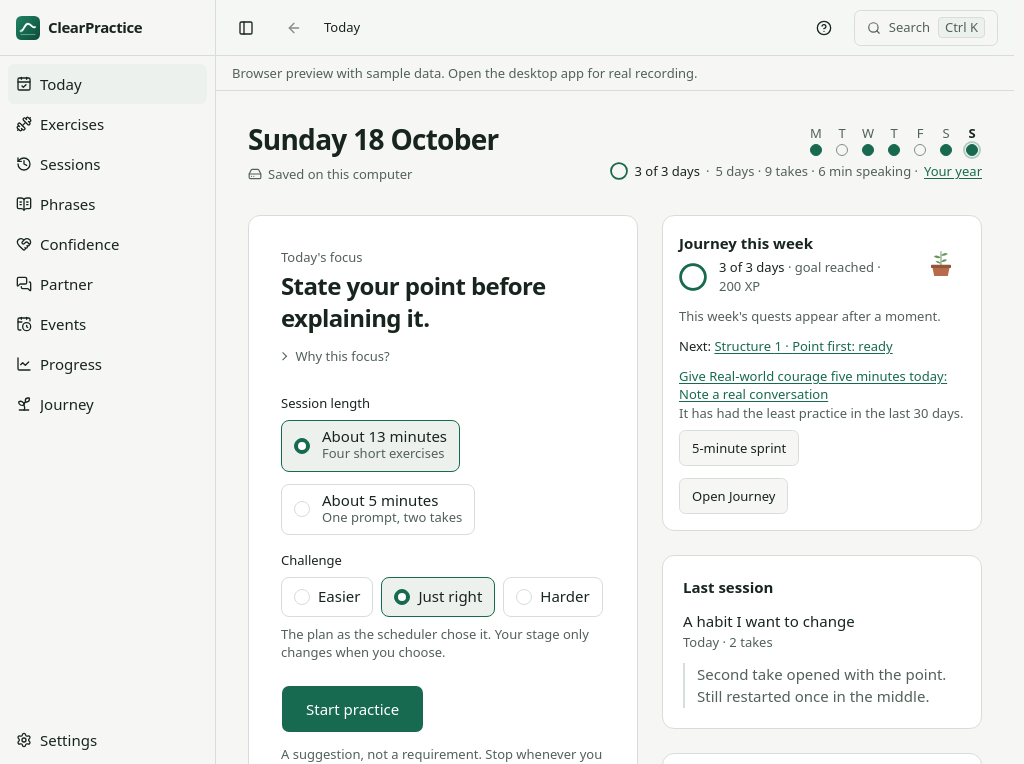
app shell › opens the command palette with Ctrl+K and finds a phrase
The width and height of the screenshot is (1024, 764).
Expected: the button "Start practice" is shown, [281,685,424,733]
Type keys "{Control>}k{/Control}"
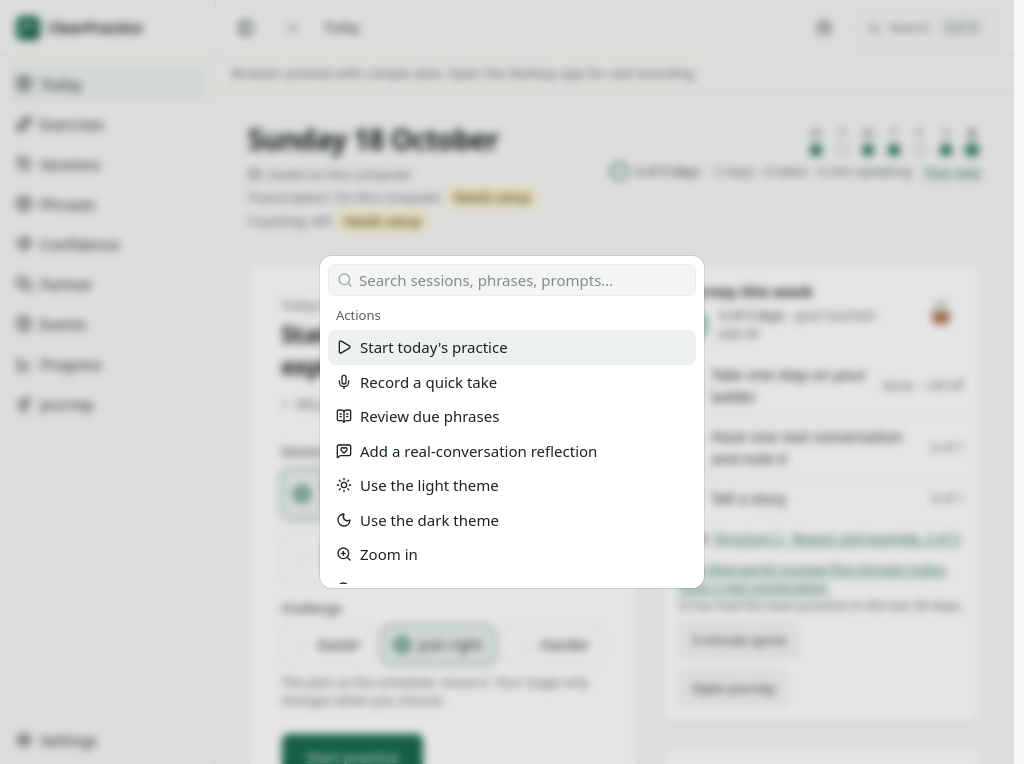
In the dropdown: (524, 280) [353,269,695,291], type "track of time"
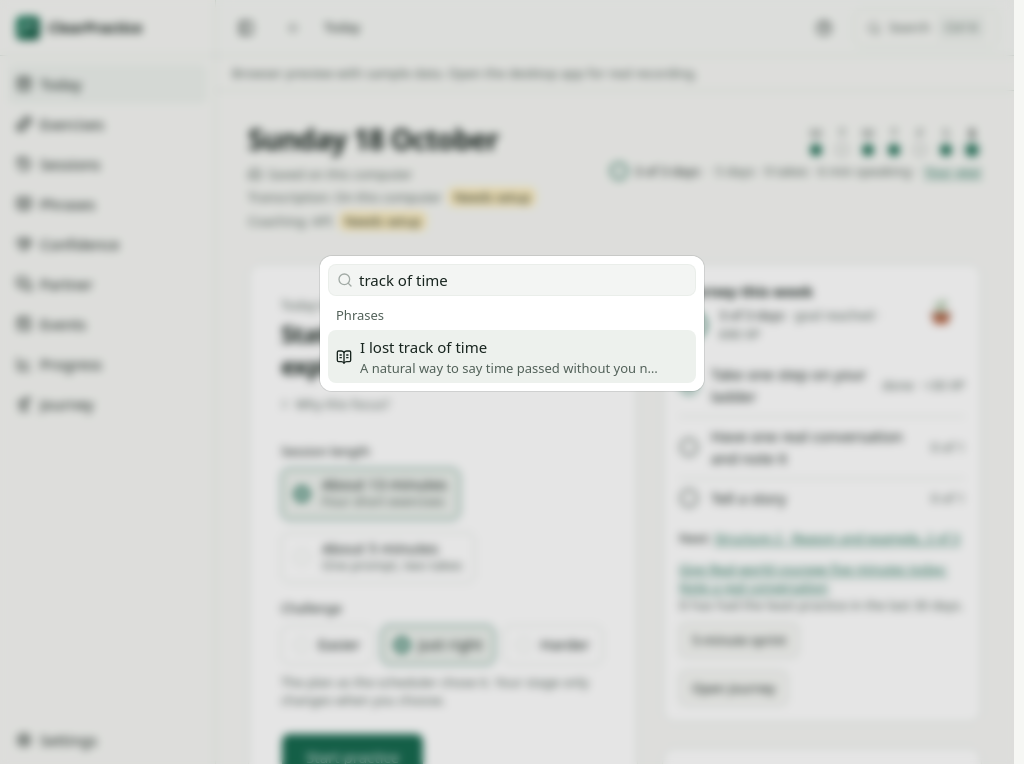
Result: the text "I lost track of time" is shown at [360,337,487,357]
